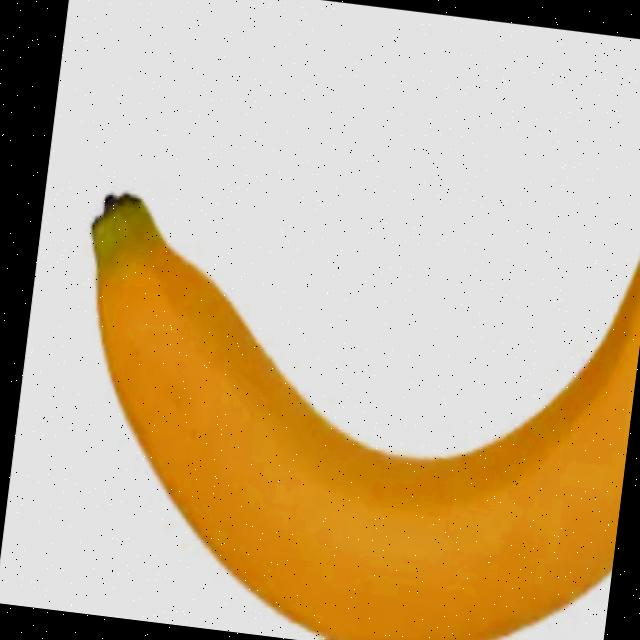Ripe: (21, 59, 640, 640)
